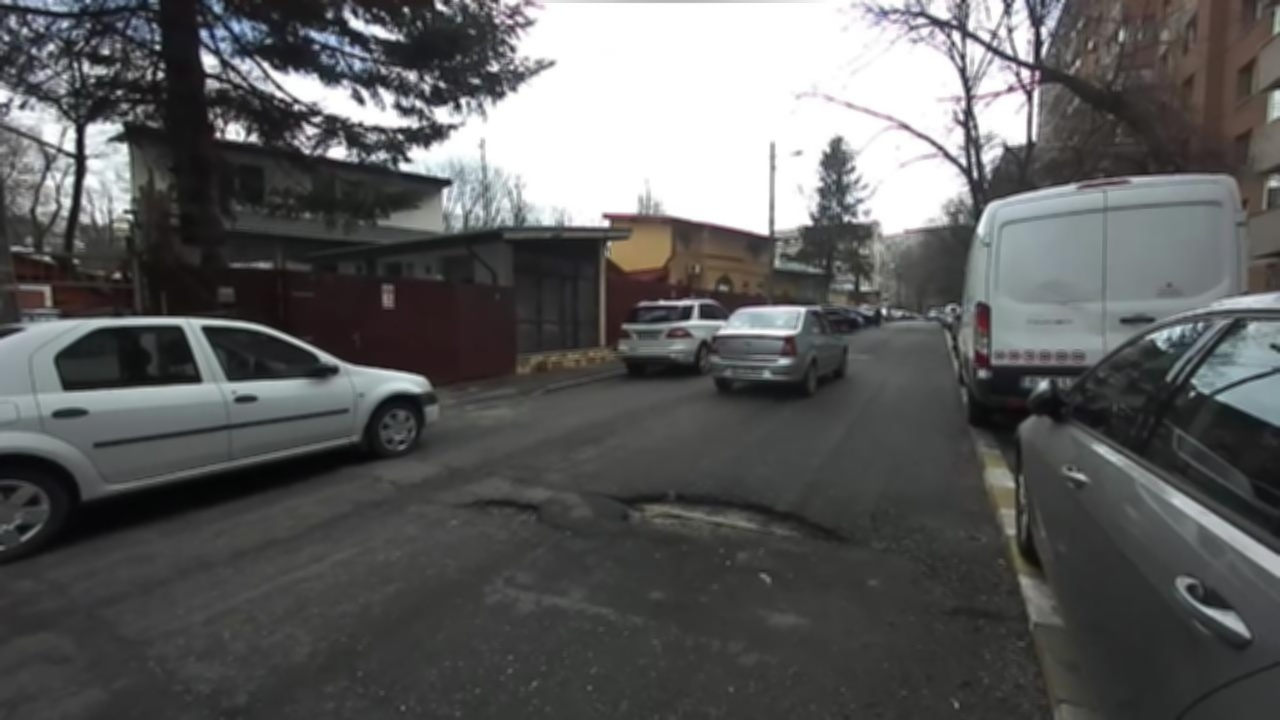pothole: (604, 484, 863, 556), (454, 493, 557, 529)
